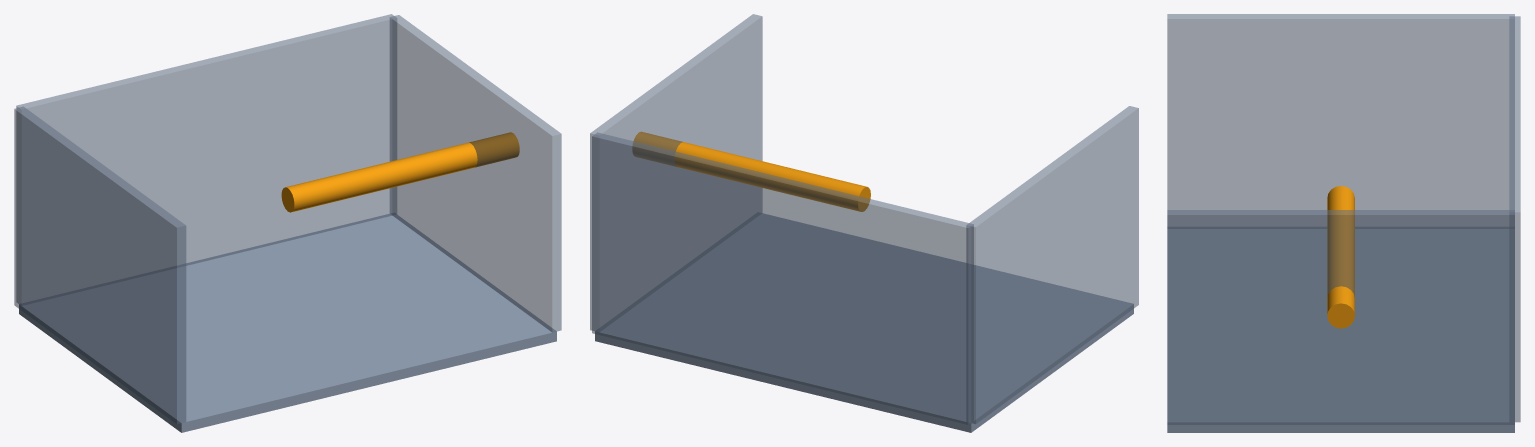
File: demo-room.glb
The picture shows the model from 3 angles, left to right: view 1: azimuth 30°, elevation 25°; view 2: azimuth 150°, elevation 25°; view 3: azimuth 270°, elevation 25°; orthographic projection. The views are drawn at different scales.
Bounding box in the file's own units: 4.45 × 2.1 × 3.05.
